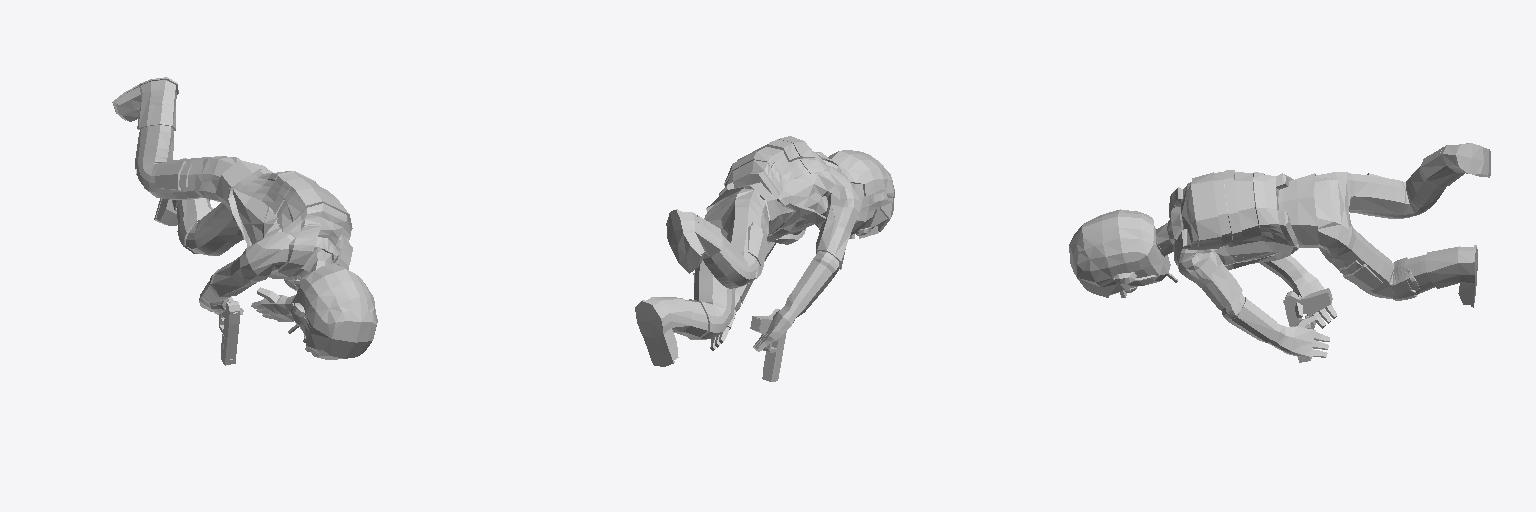
Rendered from frame_0038.obj.
3 views of the same model, side by side, from view 1: azimuth 30°, elevation 25°; view 2: azimuth 150°, elevation 25°; view 3: azimuth 270°, elevation 25° (orthographic).
Parts seen in each view (by area): view 1: Body, Gun; view 2: Body, Gun; view 3: Body, Gun.
Boxes of the visible parts, x1=… form: Body: x1=112, y1=77, x2=377, y2=359; Gun: x1=219, y1=296, x2=239, y2=365; Body: x1=635, y1=136, x2=894, y2=366; Gun: x1=750, y1=309, x2=786, y2=381; Body: x1=1069, y1=143, x2=1490, y2=357; Gun: x1=1283, y1=288, x2=1332, y2=362.
Bounding box in the file's own units: 1.25 × 2.31 × 3.92.